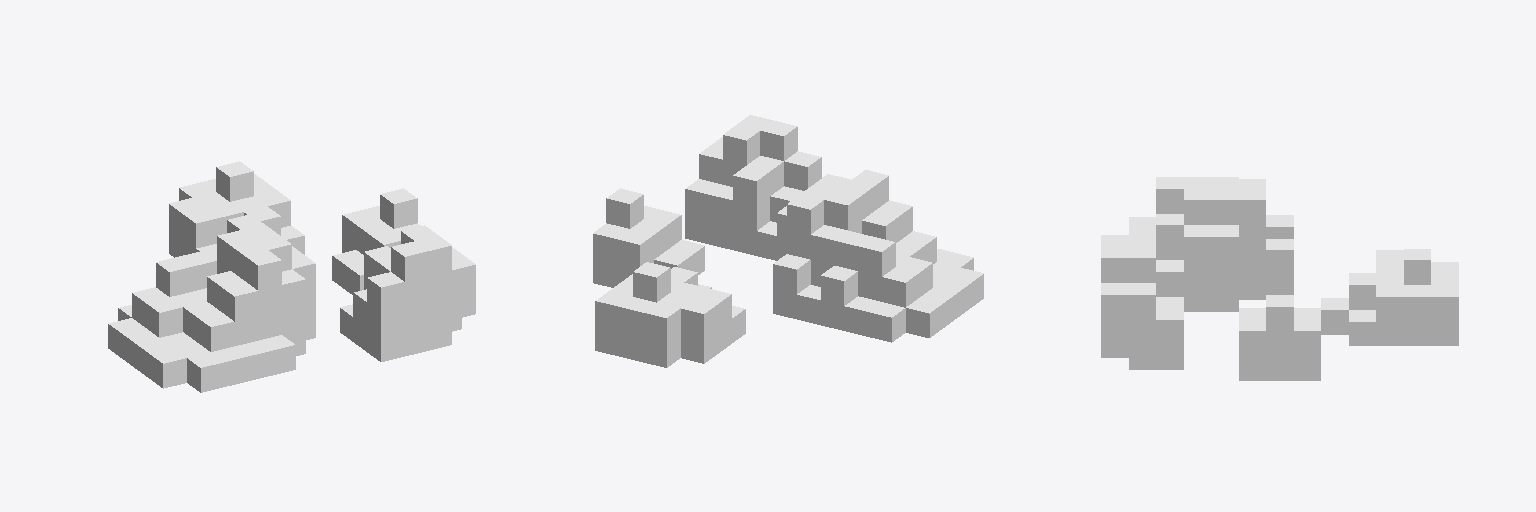
Rendered from Piedras.obj.
3 renders of one model, left to right at view 1: azimuth 30°, elevation 25°; view 2: azimuth 150°, elevation 25°; view 3: azimuth 270°, elevation 25°, orthographic.
Visible parts, largest first — view 1: object 1; view 2: object 1; view 3: object 1.
Boxes of the visible parts, box(x1,y1,x2,y2) form: object 1: box(108, 161, 475, 392); object 1: box(593, 115, 983, 367); object 1: box(1101, 177, 1458, 380).
Size of the model in its own units: 1.3 by 0.4 by 1.3.